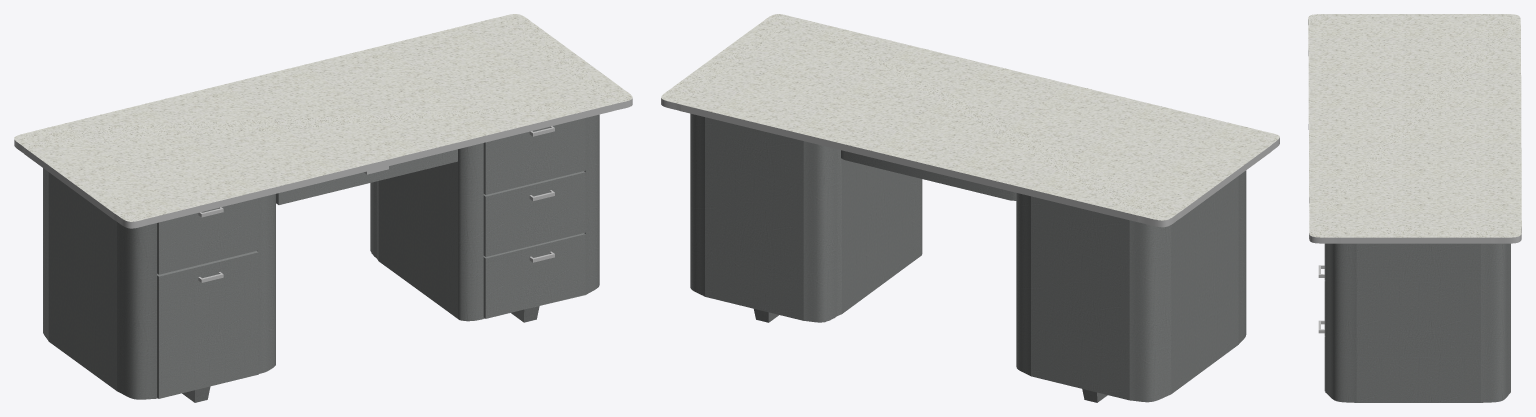
The model's file is OldOfficeDesk_01.DAE.
3 views of the same model, side by side, from view 1: azimuth 30°, elevation 25°; view 2: azimuth 150°, elevation 25°; view 3: azimuth 270°, elevation 25° (orthographic). The views are drawn at different scales.
Parts seen in each view (by area): view 1: OldDeskOne300; view 2: OldDeskOne300; view 3: OldDeskOne300.
Part boxes in pixels (x1,y1,x2,y2): OldDeskOne300: (14,14,632,402); OldDeskOne300: (661,14,1279,402); OldDeskOne300: (1308,14,1521,402).
Size of what is drawn, in the model's own units: 103 by 41.78 by 41.63.
